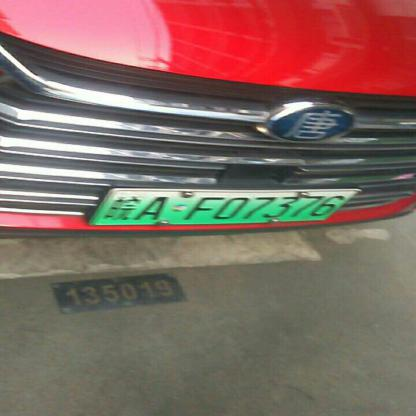lp: (91, 189, 361, 224)
